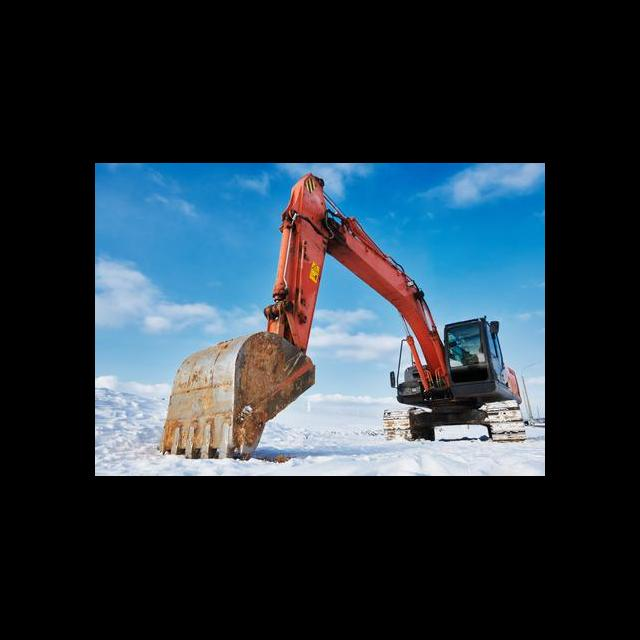Excavator: (153, 170, 526, 460)
